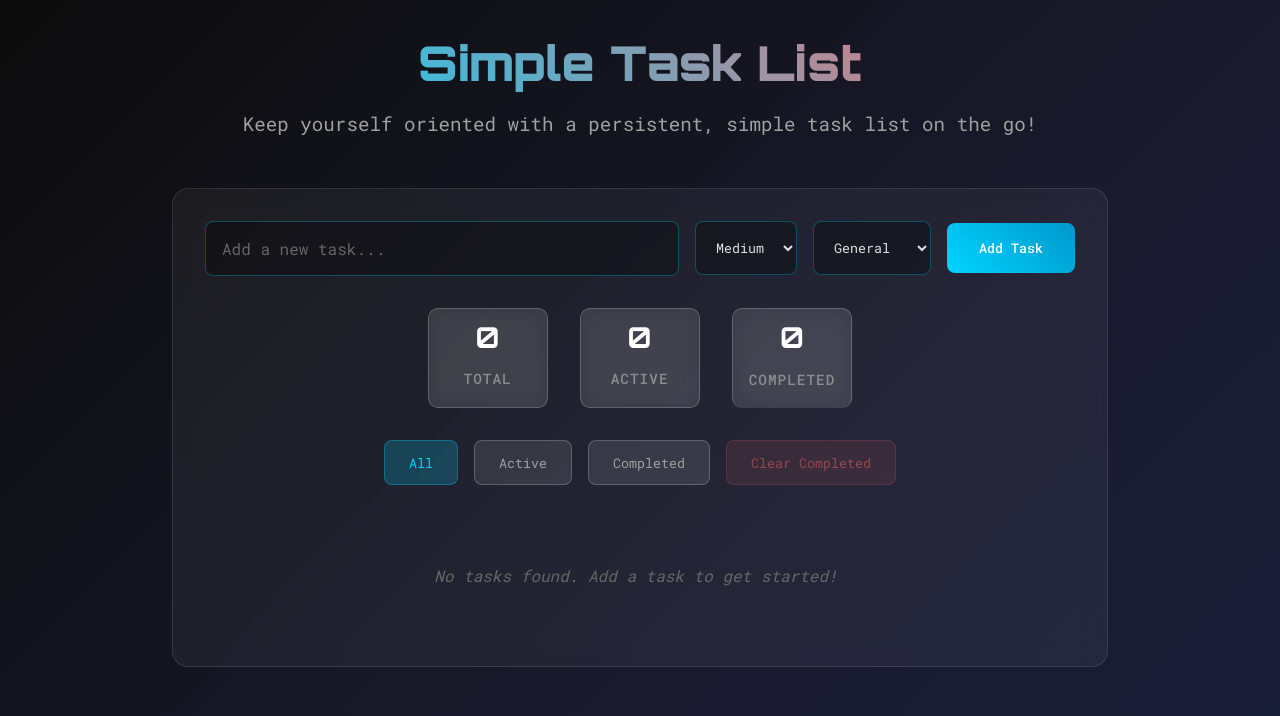
Test: TaskList › Clear Completed Tasks › clears all completed tasks
Note: Add and complete a task
Type "Completed task" into the field with placeholder "Add a new task..." at x=442, y=248, box x1=205 y1=221 x2=679 y2=276
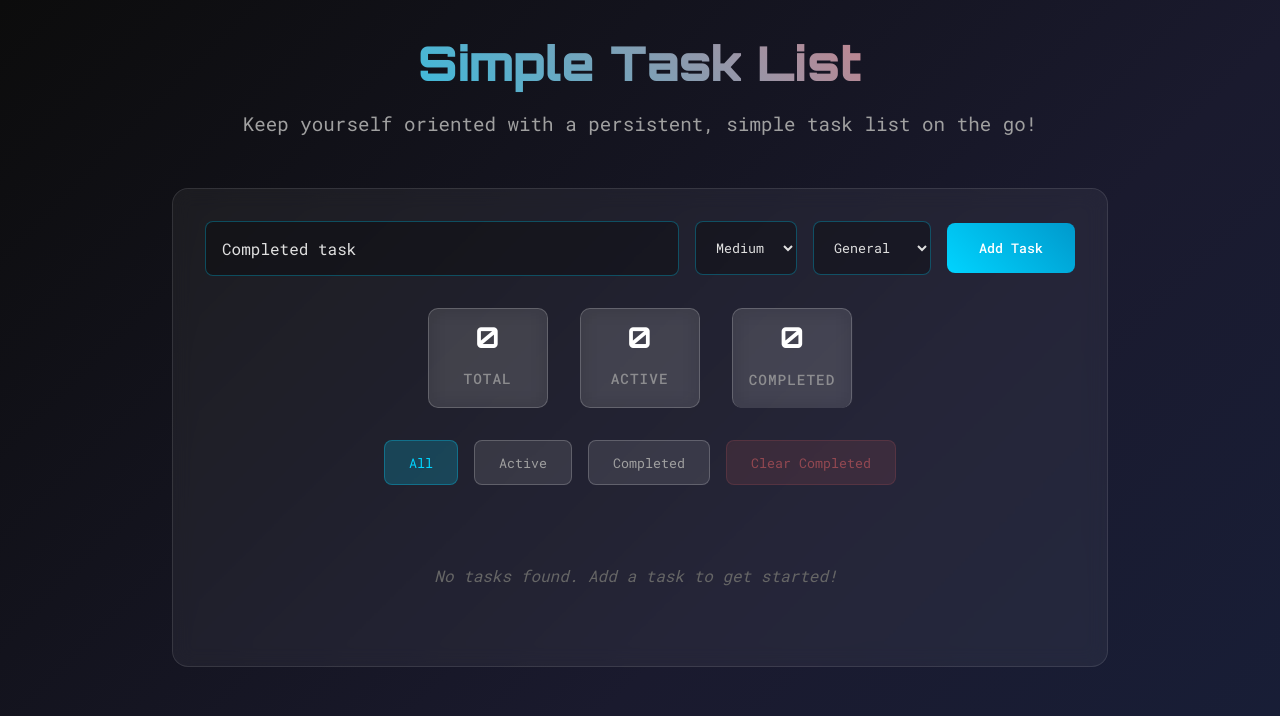
Click the button "Add Task" at x=1011, y=248, box x1=947 y1=223 x2=1075 y2=273
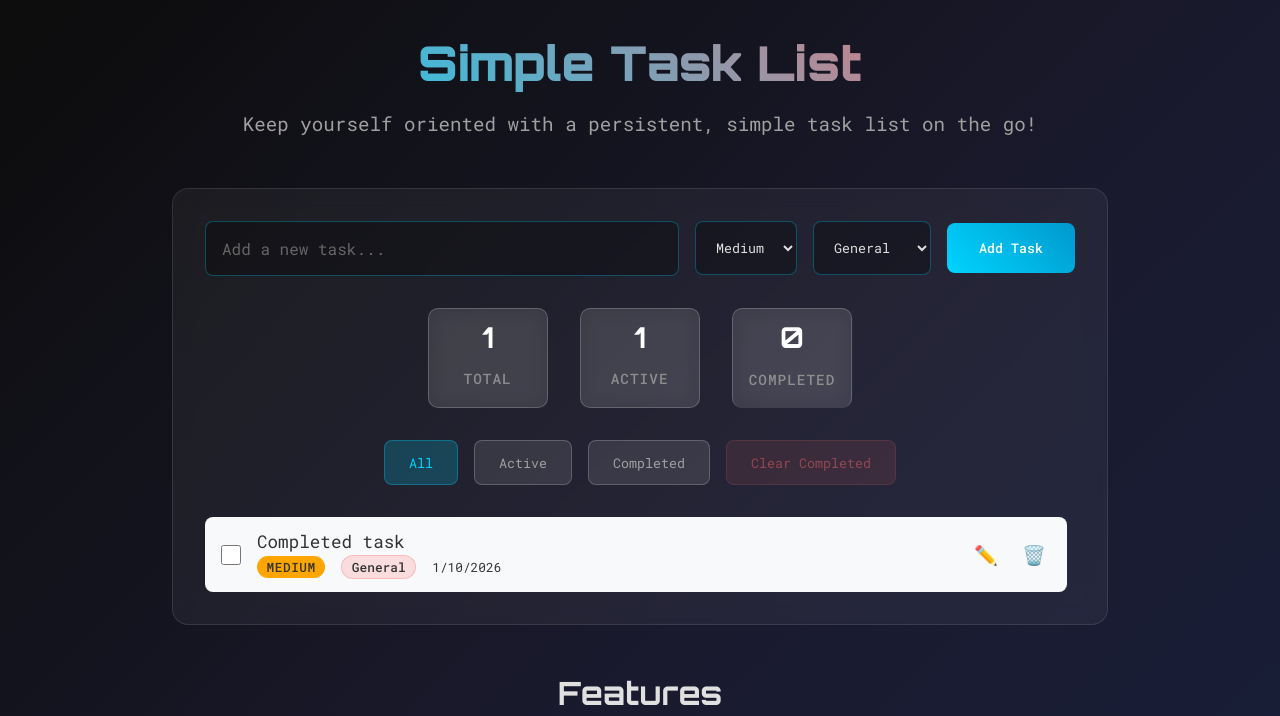
Click the checkbox at x=231, y=555, box x1=221 y1=545 x2=241 y2=565
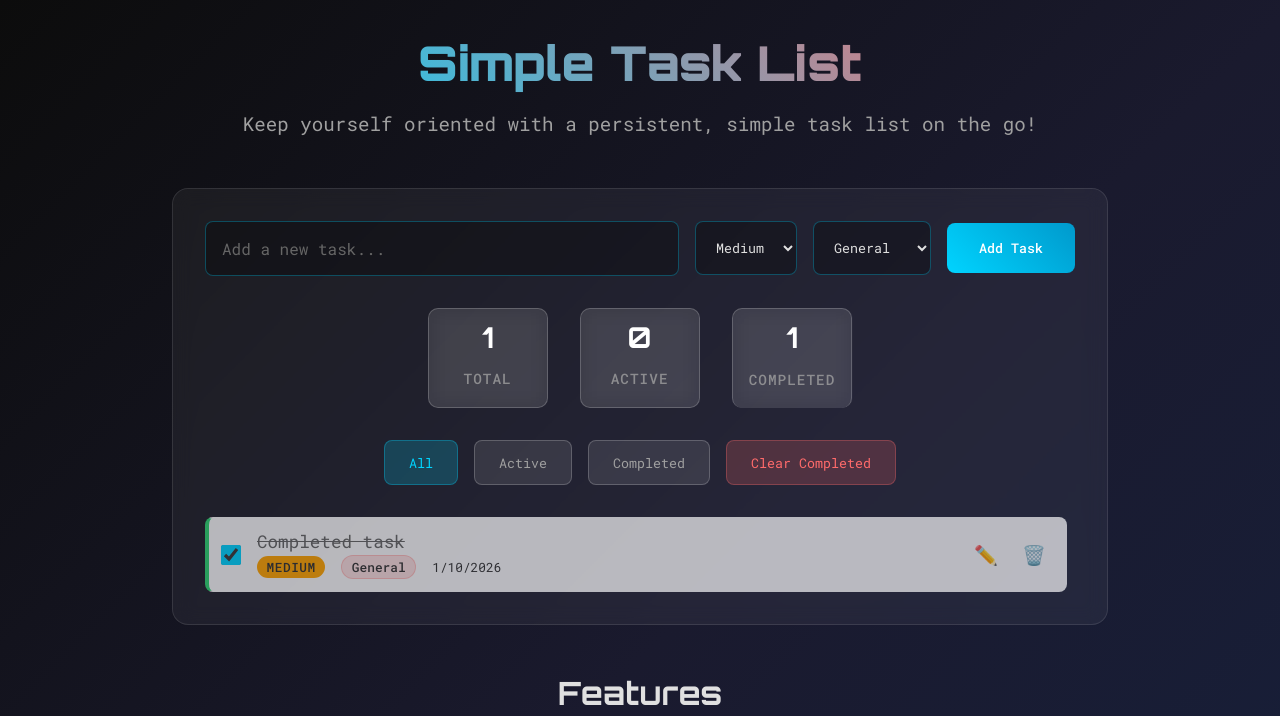
Note: Clear completed tasks
Click the button "Clear Completed" at x=811, y=462, box x1=726 y1=440 x2=896 y2=485
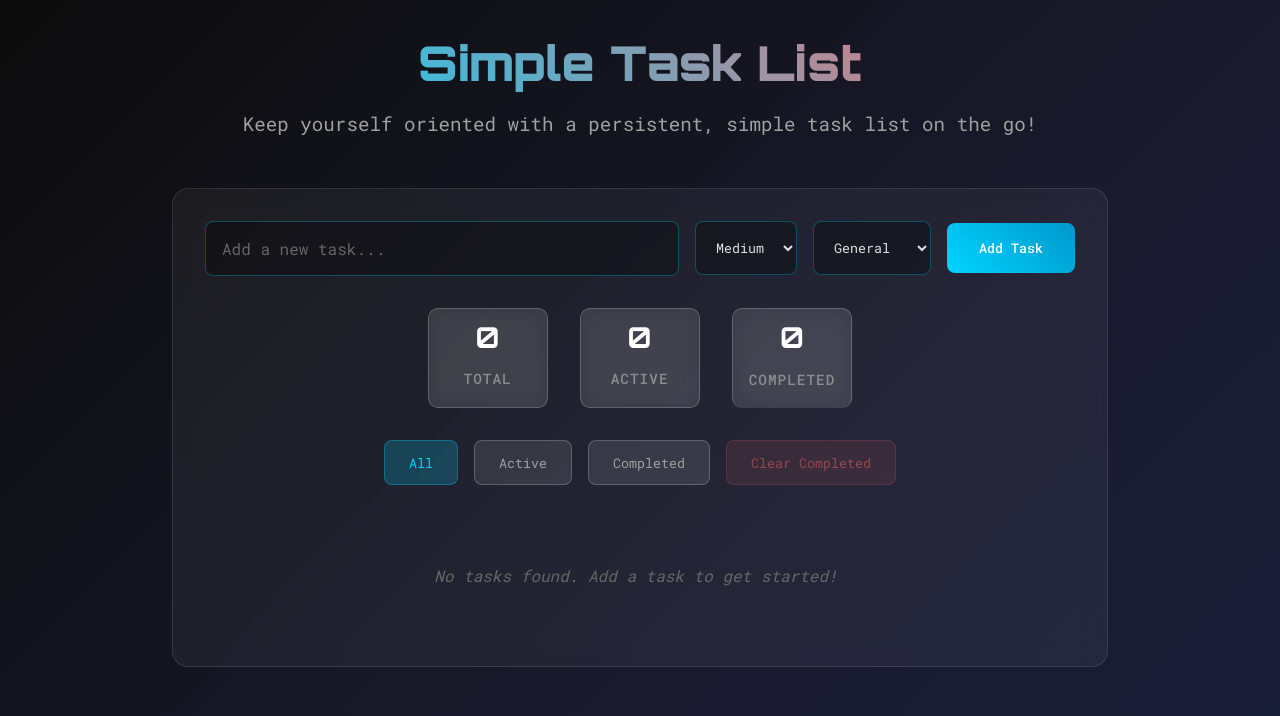
Expected: the text "Completed task" is gone
